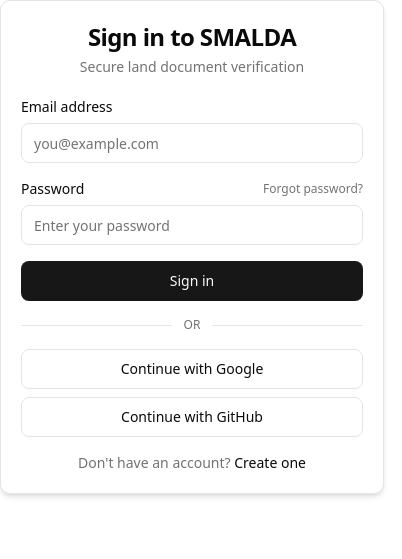
Test case: LoginForm › shows validation messages without submitting invalid credentials
Click the button "Sign in". click: {"x": 192, "y": 281}
box: [21,261,363,301]
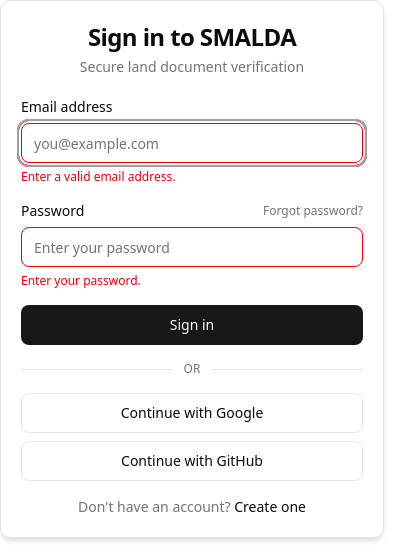
Now the text "Enter a valid email address." is shown, box [21,168,175,185]
Now the text "Enter your password." is shown, box [21,272,141,289]
